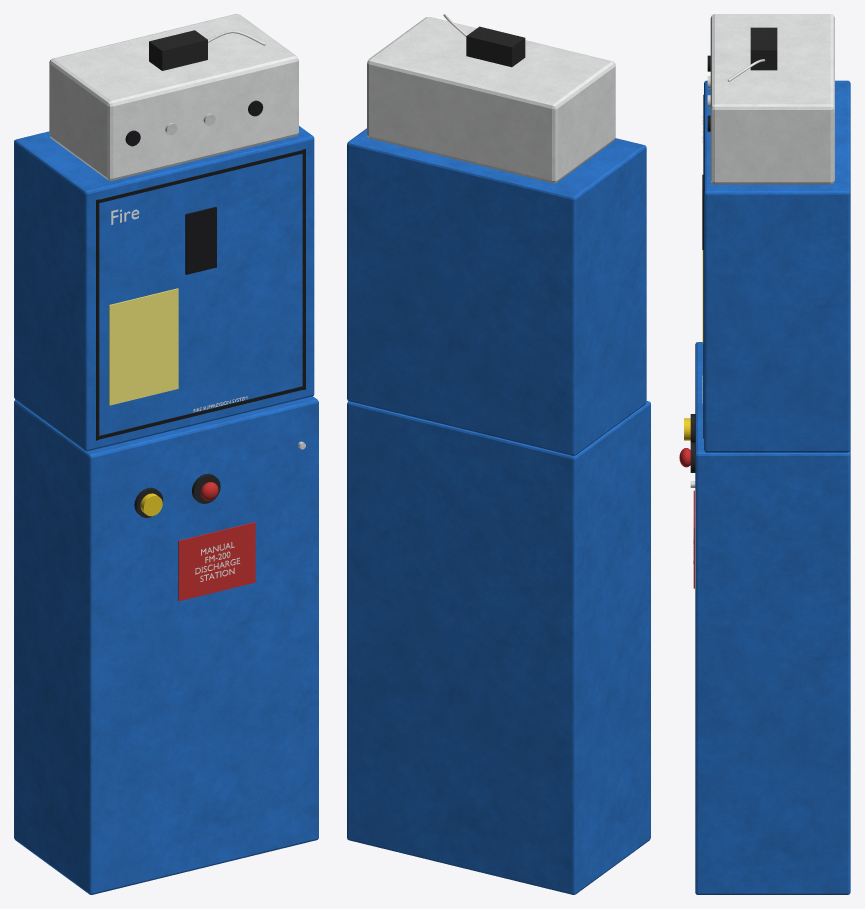
The model's file is C20_FM200_Fire_Suppression_Panel.fbx.
The picture shows the model from 3 angles, left to right: view 1: azimuth 30°, elevation 25°; view 2: azimuth 150°, elevation 25°; view 3: azimuth 270°, elevation 25°; orthographic projection.
Parts seen in each view (by area): view 1: Lower_Cabinet, Upper_Cabinet, Top_ControlBox, Sticker, Sign_Red, Window.001, Top_Device.001, Door_Outline.002, Door_Outline.003, Door_Outline, Door_Outline.001; view 2: Lower_Cabinet, Upper_Cabinet, Top_ControlBox, Top_Device.001; view 3: Lower_Cabinet, Upper_Cabinet, Top_ControlBox, Top_Device.001.
Boxes of the visible parts, x1,y1,x2,y2 form: Lower_Cabinet: (14, 396, 318, 894); Upper_Cabinet: (14, 126, 314, 451); Top_ControlBox: (49, 14, 298, 180); Sticker: (109, 288, 178, 405); Sign_Red: (178, 522, 255, 601); Window.001: (185, 207, 216, 274); Top_Device.001: (149, 30, 207, 70); Door_Outline.002: (96, 199, 99, 440); Door_Outline.003: (302, 149, 305, 389); Door_Outline: (98, 150, 304, 203); Door_Outline.001: (98, 386, 303, 439); Lower_Cabinet: (347, 401, 650, 894); Upper_Cabinet: (347, 128, 646, 455); Top_ControlBox: (367, 17, 615, 183); Top_Device.001: (466, 26, 525, 67); Lower_Cabinet: (695, 342, 850, 894); Upper_Cabinet: (704, 80, 850, 452); Top_ControlBox: (710, 14, 834, 184); Top_Device.001: (750, 27, 777, 70).
Bounding box in the file's own units: 0.6 × 2 × 0.3854.
Materials: 12 (5 with a texture image).
